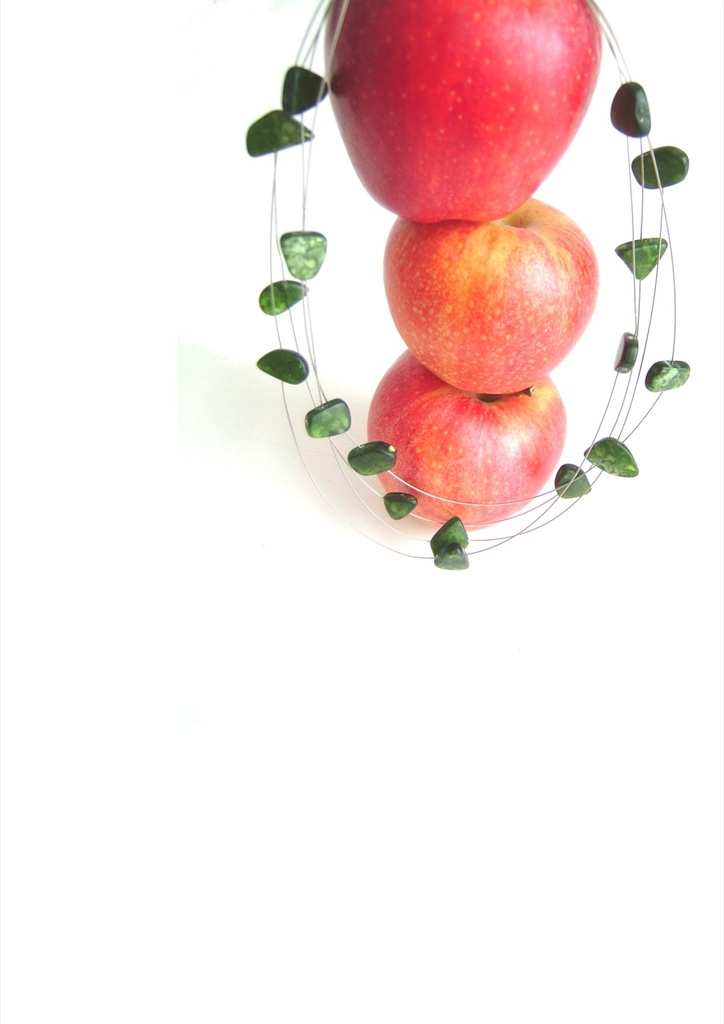Apple: (324, 2, 631, 220), (380, 194, 601, 393), (362, 345, 564, 525)
